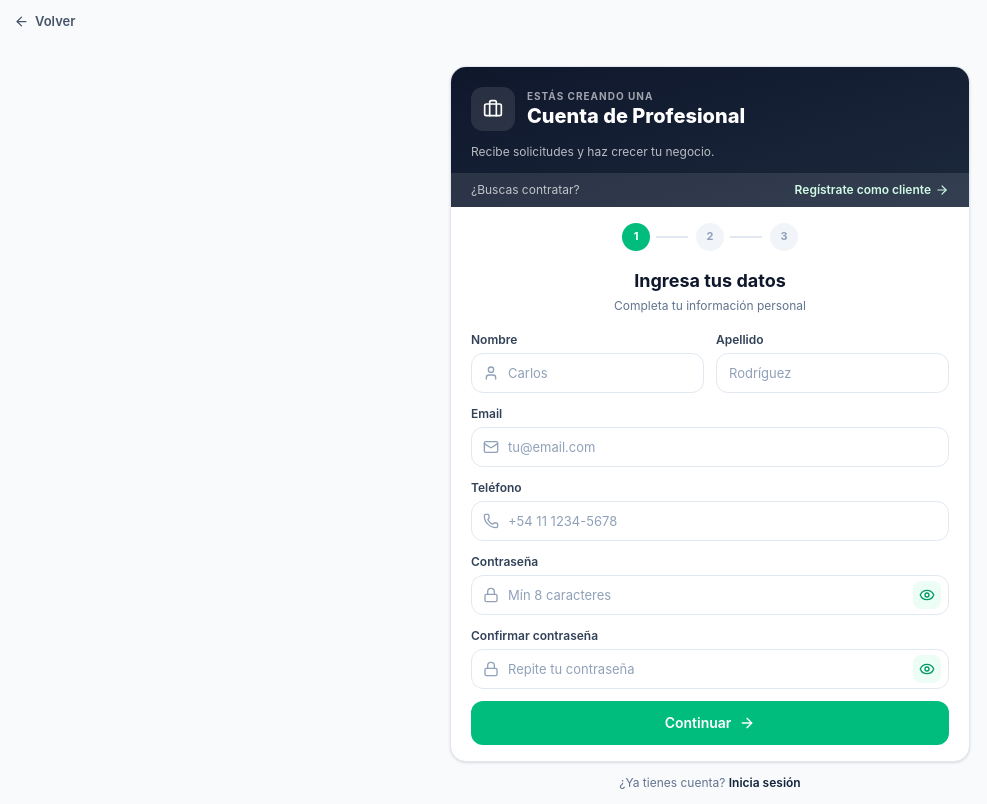
Test: RegisterWorker category catalog › shows loading and prevents progression while the catalog is pending
This screenshot has width=987, height=804.
Type "Ana" into the field with placeholder "Carlos" at (588, 372), box x1=471 y1=352 x2=704 y2=392
Type "Pérez" into the field with placeholder "Rodríguez" at (832, 372), box x1=716 y1=352 x2=949 y2=392
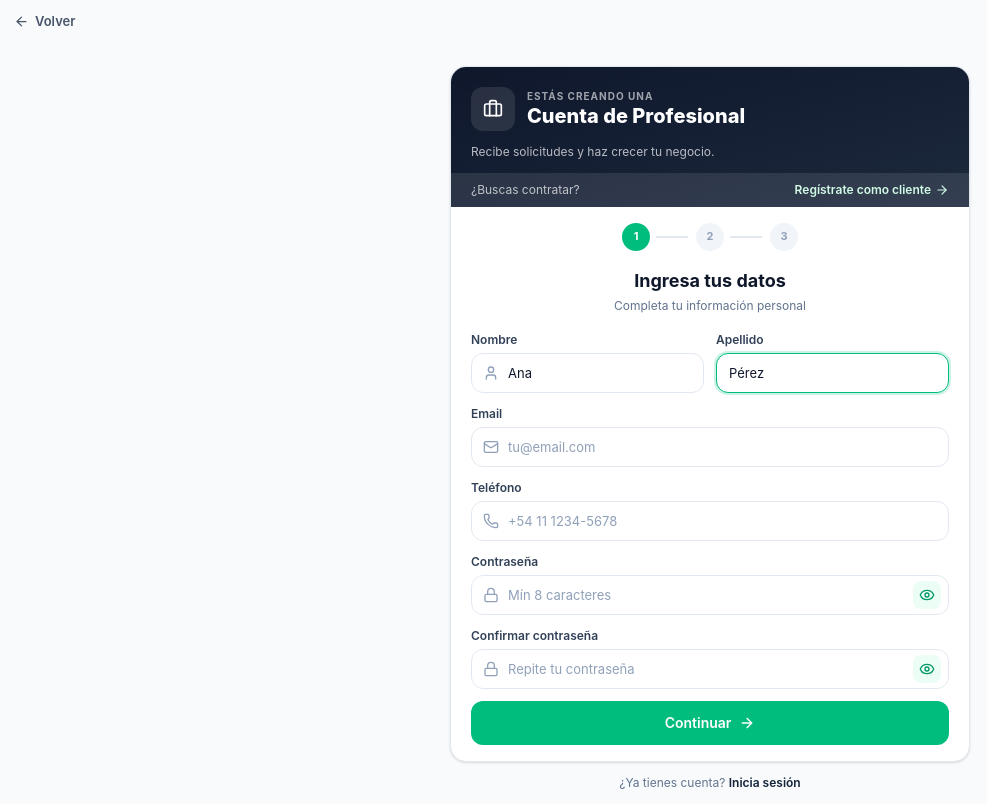
Type "ana@example.com" into the field with placeholder "tu@email.com" at (710, 446), box x1=471 y1=426 x2=949 y2=466
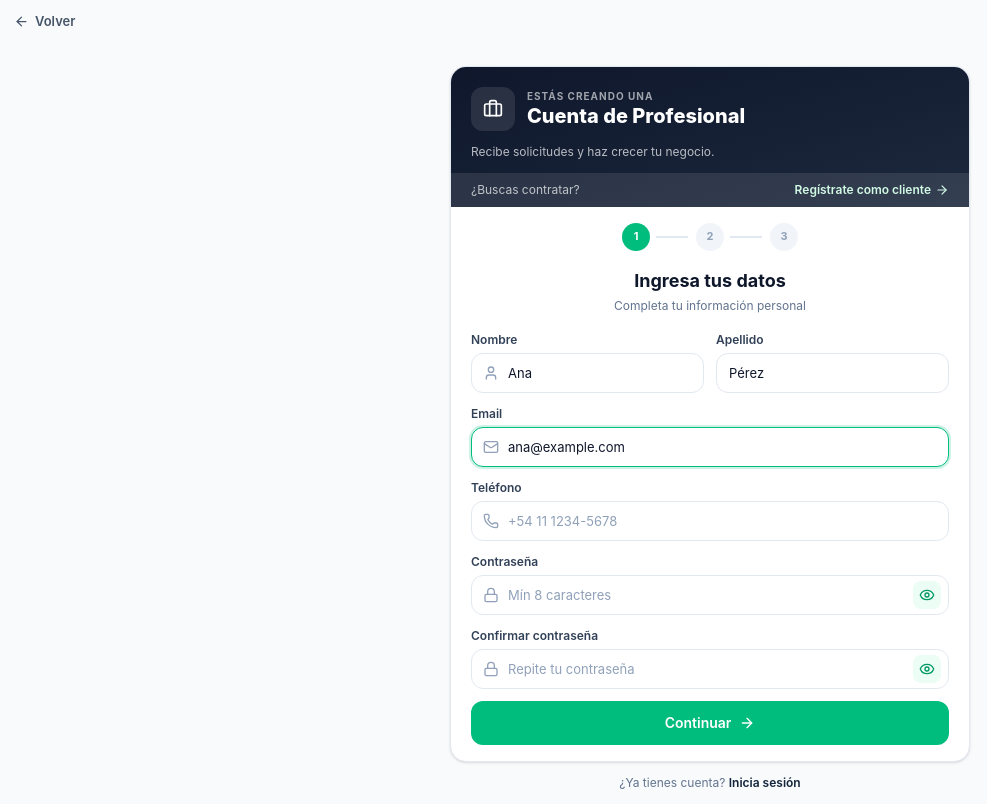
Type "1112345678" into the field with placeholder "+54 11 1234-5678" at (710, 520), box x1=471 y1=500 x2=949 y2=540
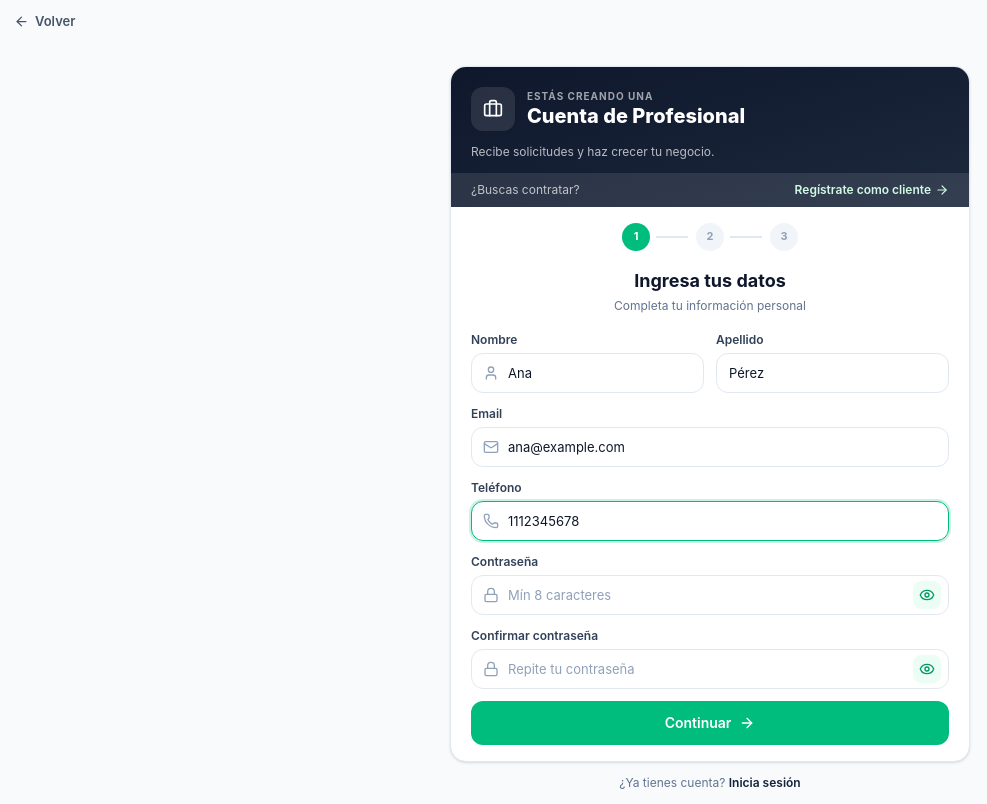
Type "Secure123!" into the password field with placeholder "Mín 8 caracteres" at (710, 594), box x1=471 y1=574 x2=949 y2=614
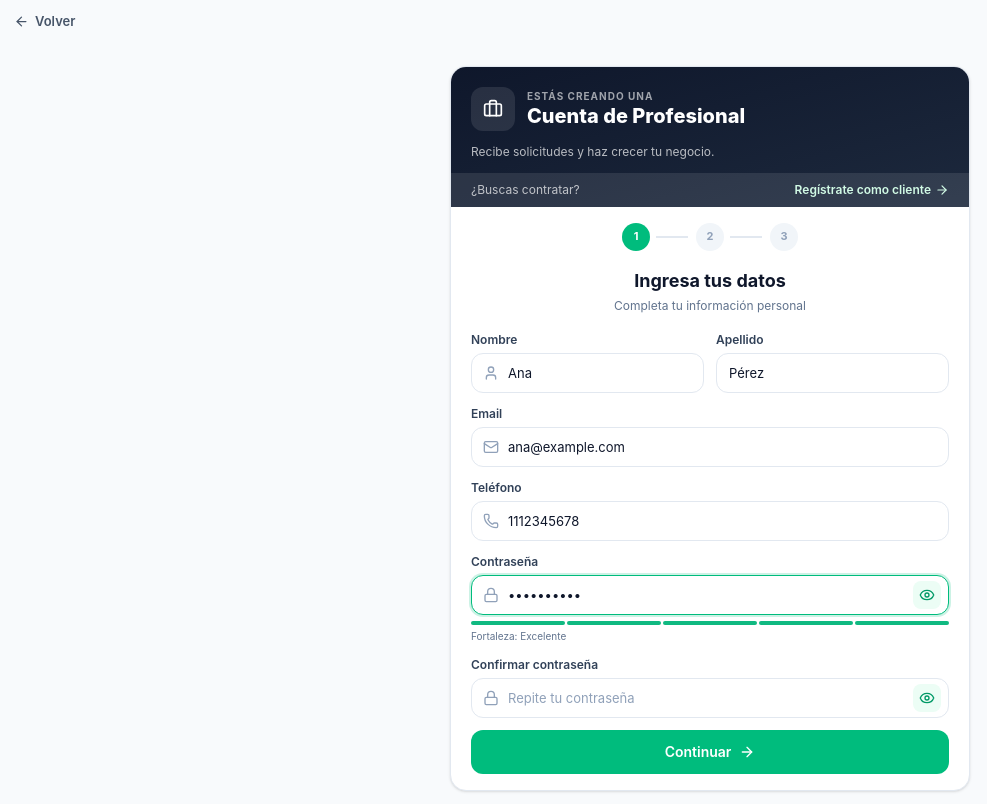
Type "Secure123!" into the password field with placeholder "Repite tu contraseña" at (710, 698), box x1=471 y1=678 x2=949 y2=718
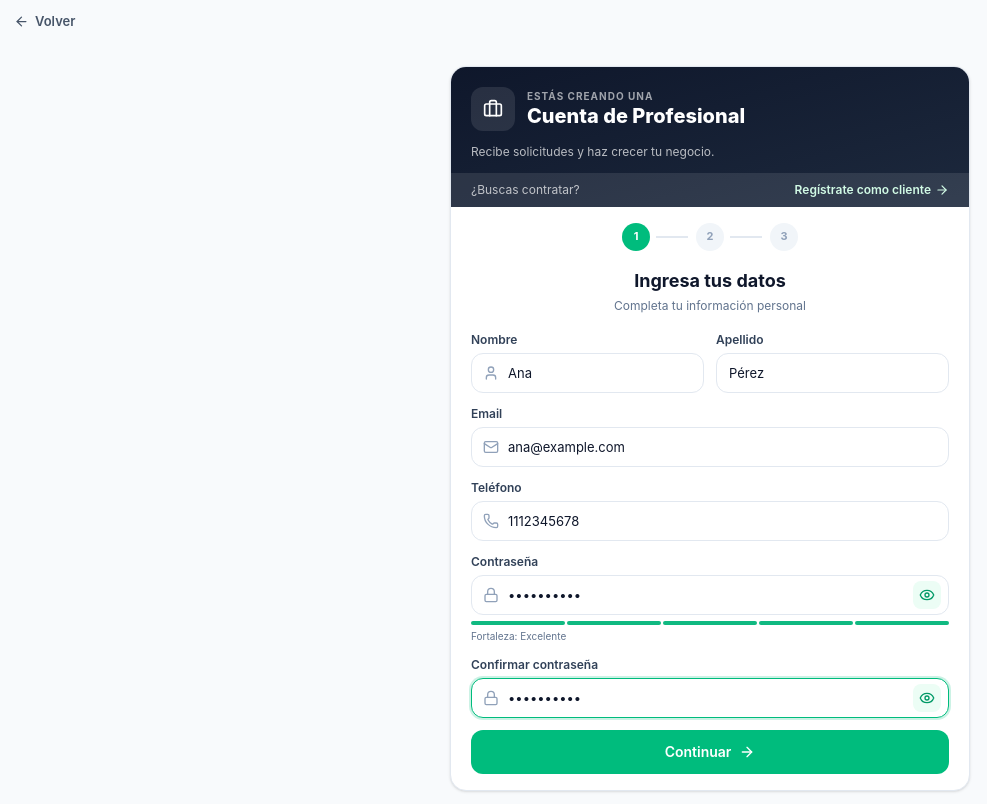
Click the button "Continuar" at (710, 752), box x1=471 y1=730 x2=949 y2=774
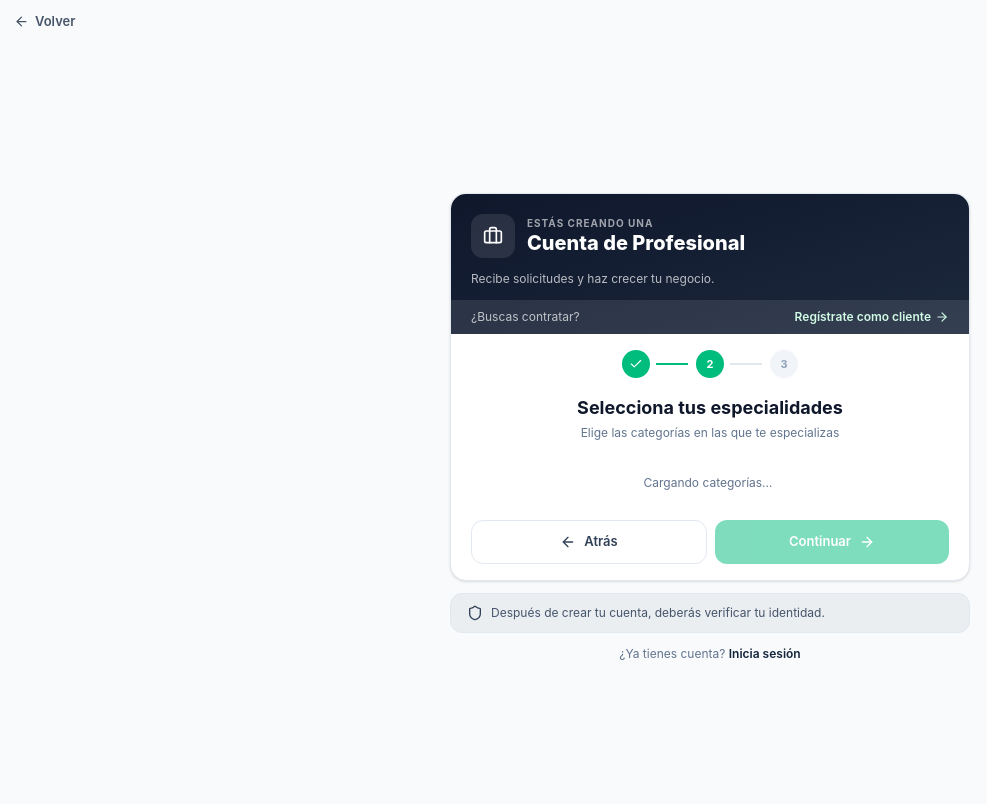
Expected: the button "Continuar" is disabled, x1=715 y1=520 x2=949 y2=564
Now the heading "Selecciona tus especialidades" is shown, box x1=577 y1=397 x2=843 y2=418
Now the message shows "Cargando categorías", box x1=644 y1=475 x2=772 y2=490
